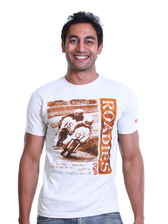clothoes: (23, 75, 146, 218)
